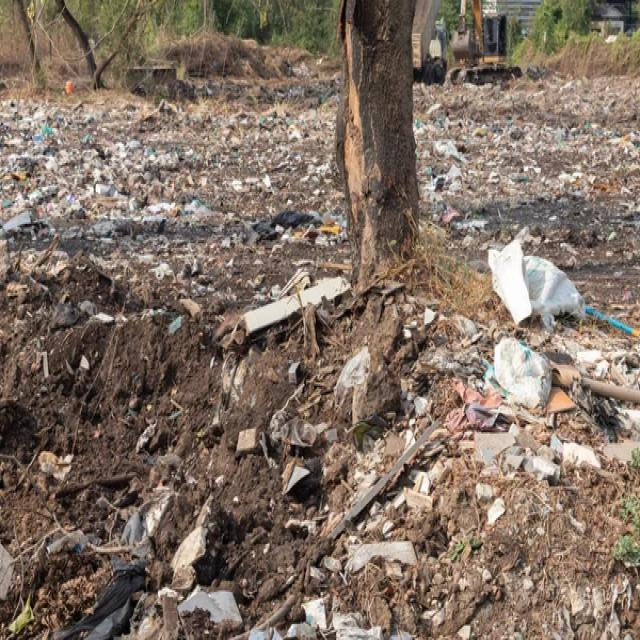garbage: (24, 82, 640, 640)
